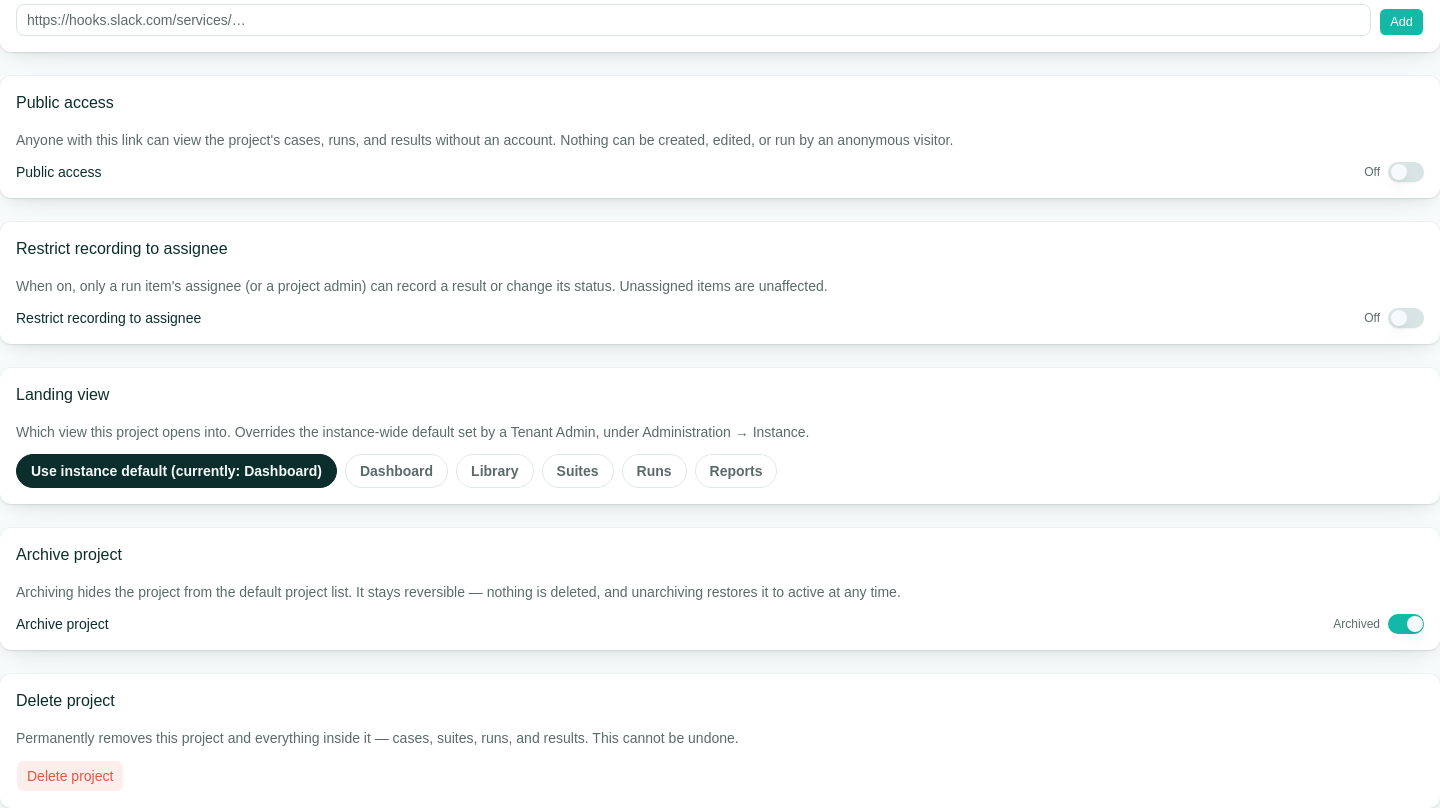
Test: ProjectSettingsPage › Archive / Delete project (add-data-retention) › shows a Delete project card for an archived project with projectDelete, with a confirmation showing real counts
(page scrolled)
Click the button "Delete project" at (70, 776), box [16,760,124,792]
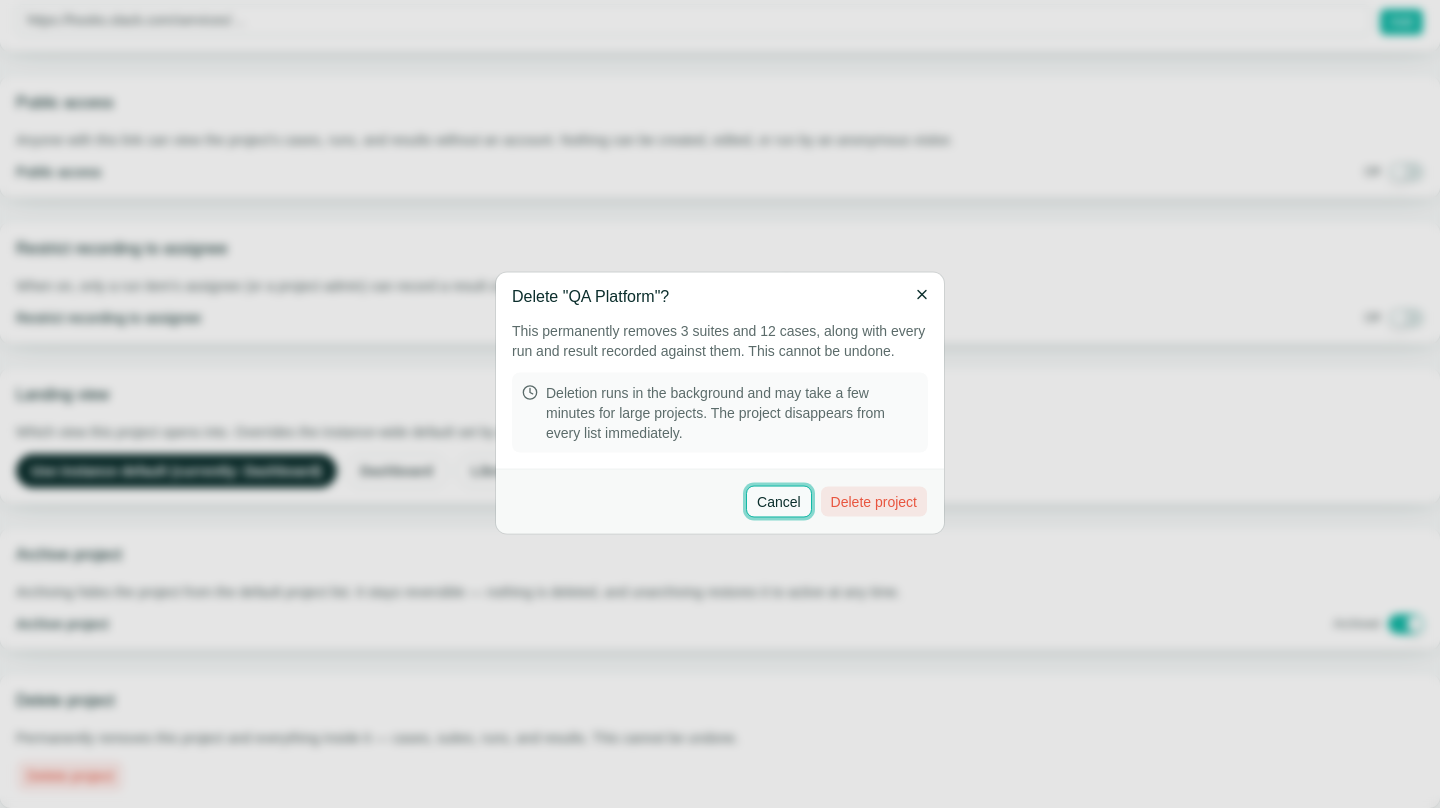
Now the heading "Delete \"QA Platform\"?" is shown, box [512,288,669,304]
Now the text "12 cases?" is shown, box [681,322,816,338]
Now the text "background" is shown, box [546,384,885,440]
